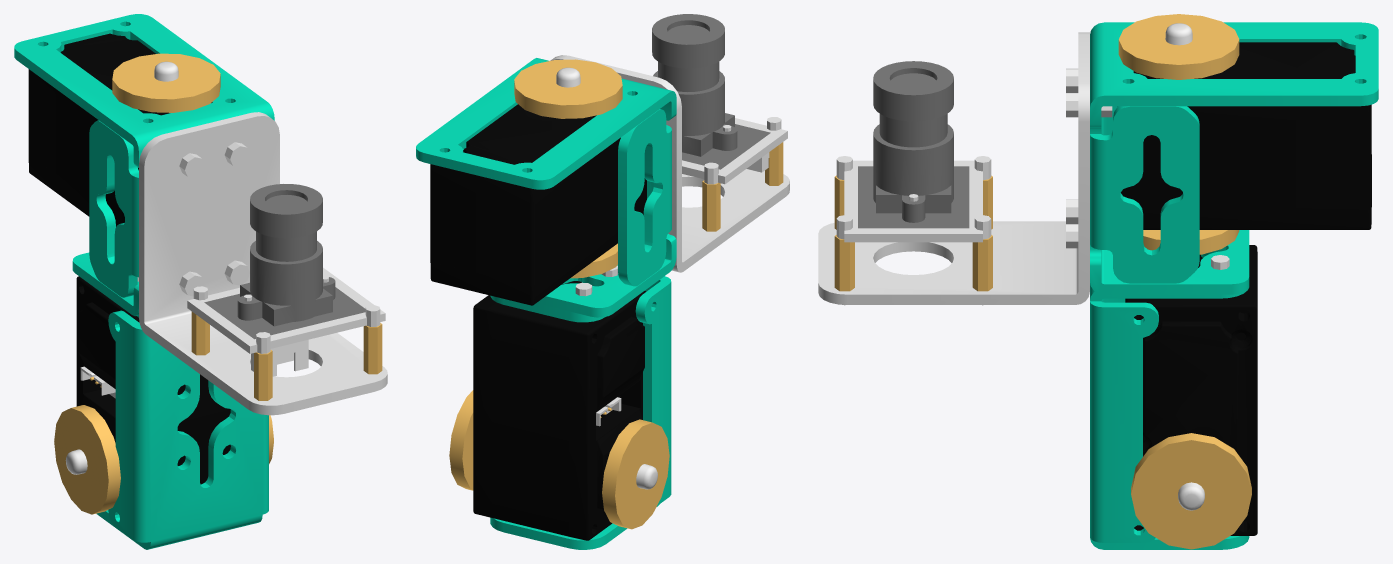
Rendered from arm4.gltf.
The picture shows the model from 3 angles, left to right: view 1: azimuth 30°, elevation 25°; view 2: azimuth 150°, elevation 25°; view 3: azimuth 270°, elevation 25°; orthographic projection. The views are drawn at different scales.
Visible parts, largest first — view 1: Arm4; view 2: Arm4; view 3: Arm4.
Part boxes in pixels (x1,y1,x2,y2): Arm4: [14, 14, 387, 549]; Arm4: [416, 14, 789, 549]; Arm4: [818, 14, 1378, 549].
Size of the model in its own units: 1.64 by 3.71 by 3.82.
